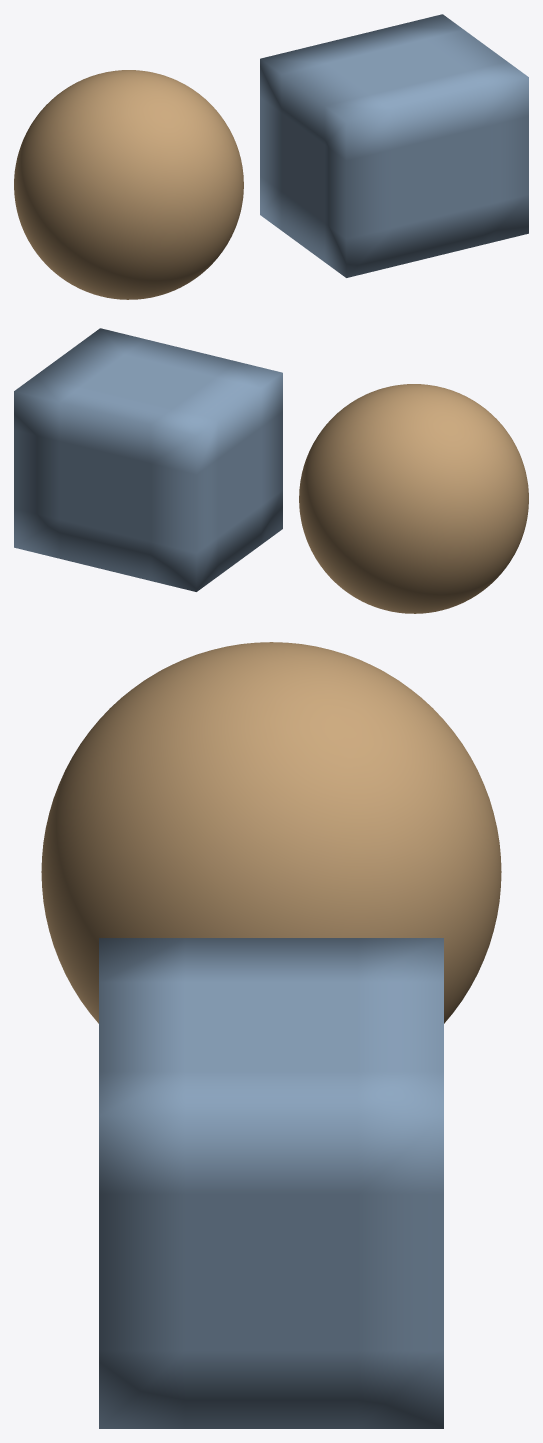
File: placeholder_objects.glb
3 renders of one model, top to bottom at view 1: azimuth 30°, elevation 25°; view 2: azimuth 150°, elevation 25°; view 3: azimuth 270°, elevation 25°, orthographic. The views are drawn at different scales.
Visible parts, largest first — view 1: world; view 2: world; view 3: world.
Boxes of the visible parts, left/top/right/bottom form: world: left=14, top=14, right=528, bottom=299; world: left=14, top=328, right=528, bottom=613; world: left=41, top=642, right=501, bottom=1428.
Size of the model in its own units: 1.38 by 0.6 by 0.6.
